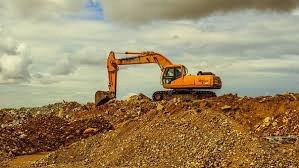excavator: (93, 49, 223, 111)
